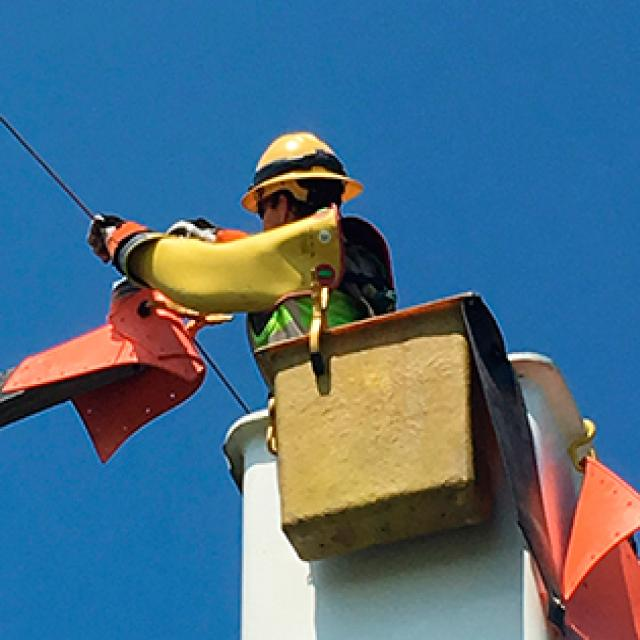gloves: (90, 213, 167, 276), (162, 216, 244, 241)
